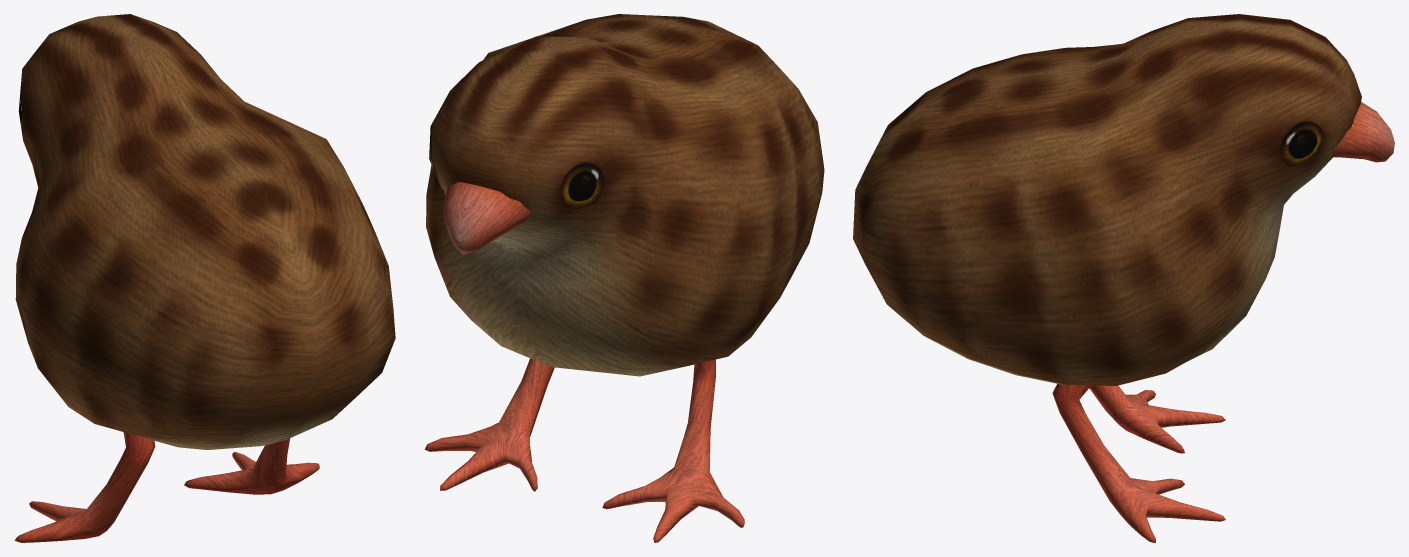
File: CRT0110040.fbx
The picture shows the model from 3 angles, left to right: view 1: azimuth 30°, elevation 25°; view 2: azimuth 150°, elevation 25°; view 3: azimuth 270°, elevation 25°; orthographic projection. The views are drawn at different scales.
Parts seen in each view (by area): view 1: smCRT0110040; view 2: smCRT0110040; view 3: smCRT0110040.
Part boxes in pixels (<box>): smCRT0110040: <box>14,14,395,542</box>; smCRT0110040: <box>424,14,824,542</box>; smCRT0110040: <box>853,14,1394,542</box>.
Bounding box in the file's own units: 6.58 × 8.87 × 9.73.
1 material, 1 textured.
